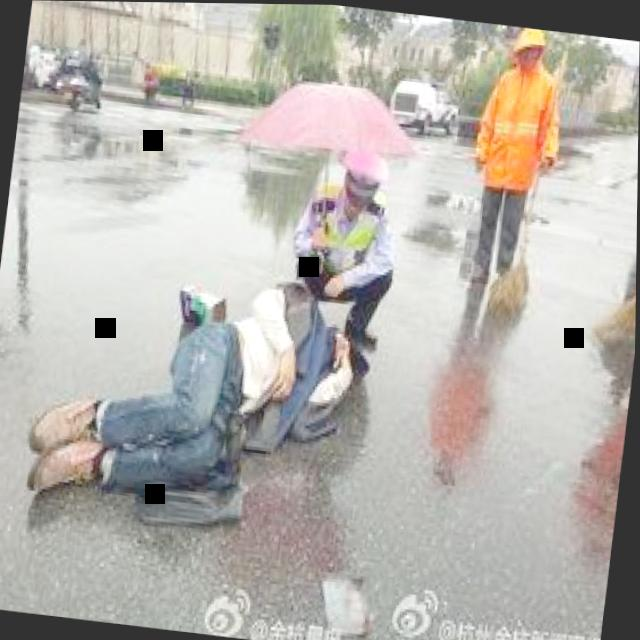Fall-Detected: (8, 230, 369, 556)
